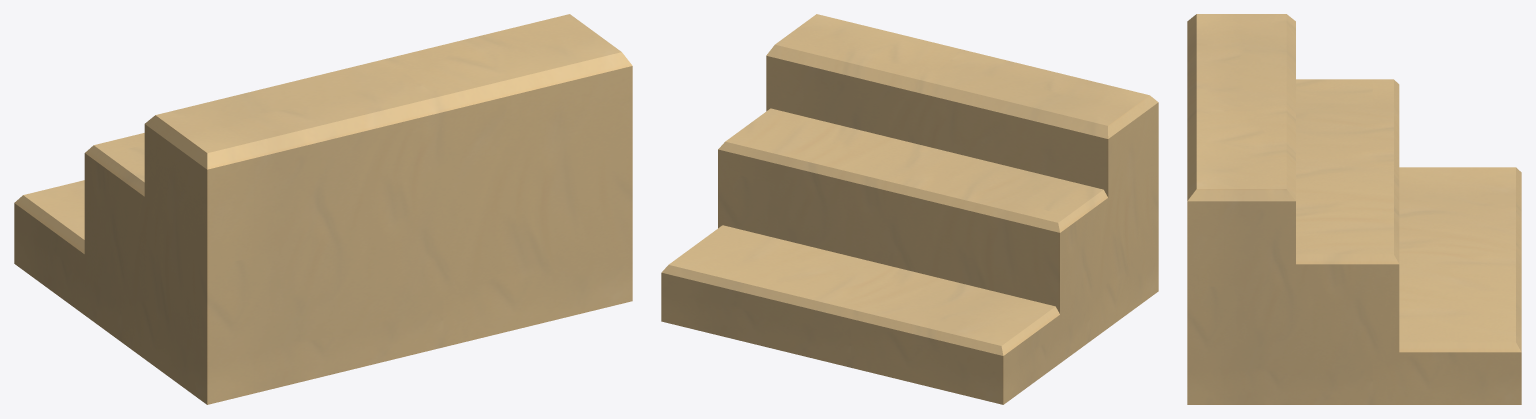
File: SeatingA.FBX
3 views of the same model, side by side, from view 1: azimuth 30°, elevation 25°; view 2: azimuth 150°, elevation 25°; view 3: azimuth 270°, elevation 25° (orthographic). The views are drawn at different scales.
Visible parts, largest first — view 1: SeatingA; view 2: SeatingA; view 3: SeatingA.
Part boxes in pixels (x1=…): SeatingA: x1=14, y1=14, x2=632, y2=404; SeatingA: x1=661, y1=14, x2=1158, y2=404; SeatingA: x1=1187, y1=14, x2=1521, y2=404.
Size of the model in its own units: 15.19 by 11.94 by 8.41.
Materials: 1 (1 with a texture image).
